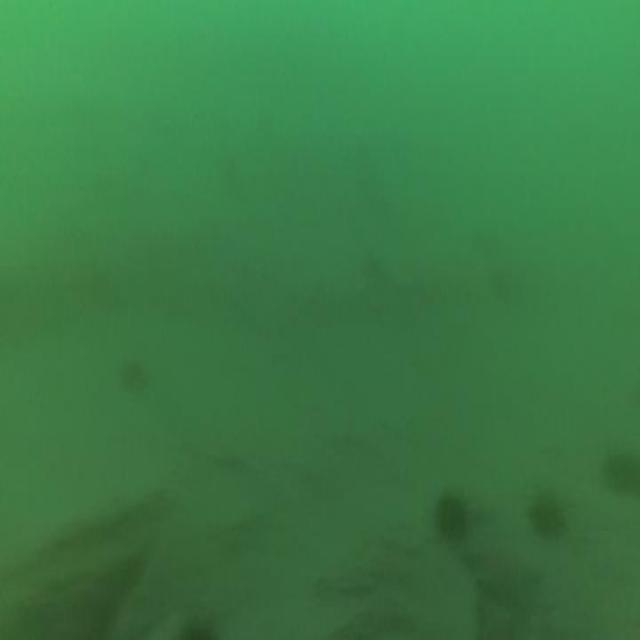echinus: (432, 484, 472, 552), (598, 442, 640, 501), (526, 486, 566, 546), (114, 352, 148, 393)
starfish: (468, 532, 542, 622)
